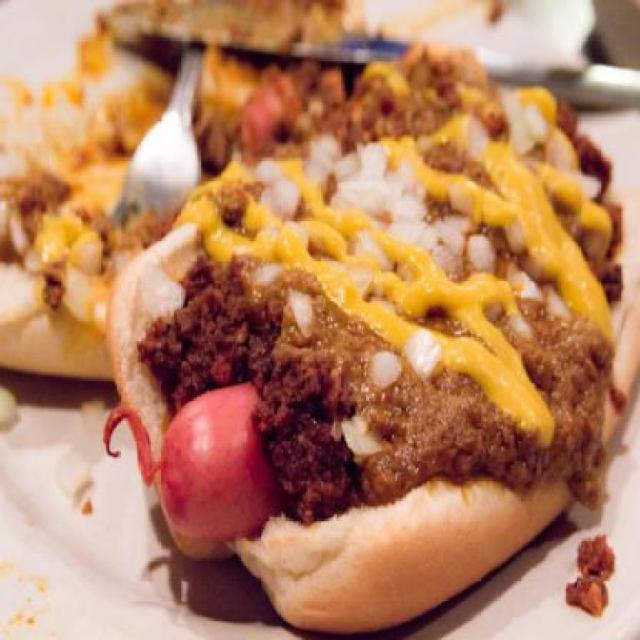Hot dog: (80, 34, 617, 634)
